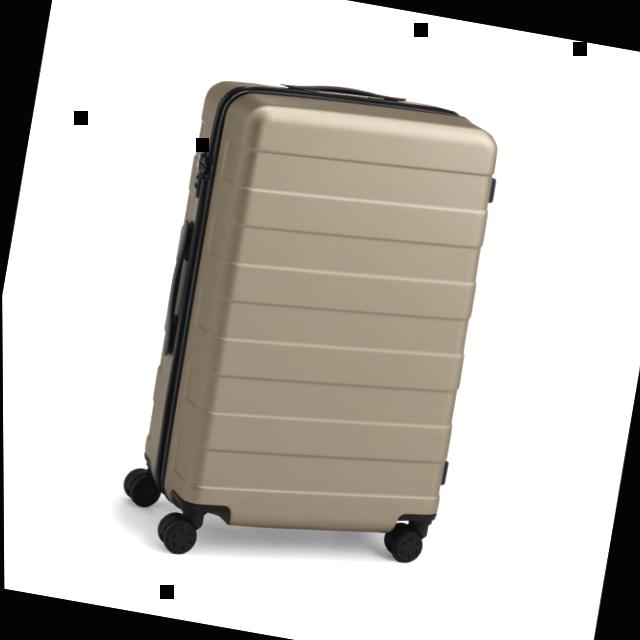luggage: (121, 54, 518, 568)
